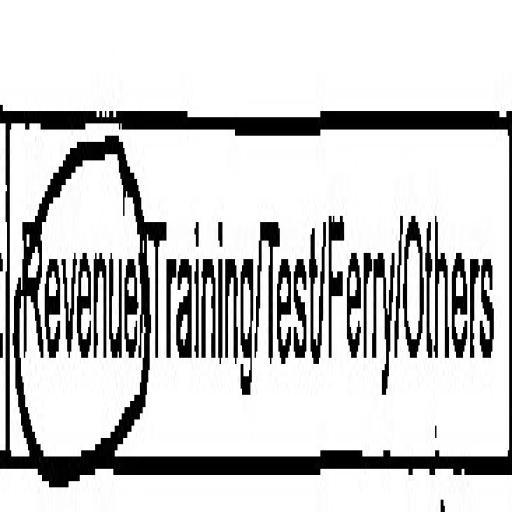check: (2, 9, 146, 512)
